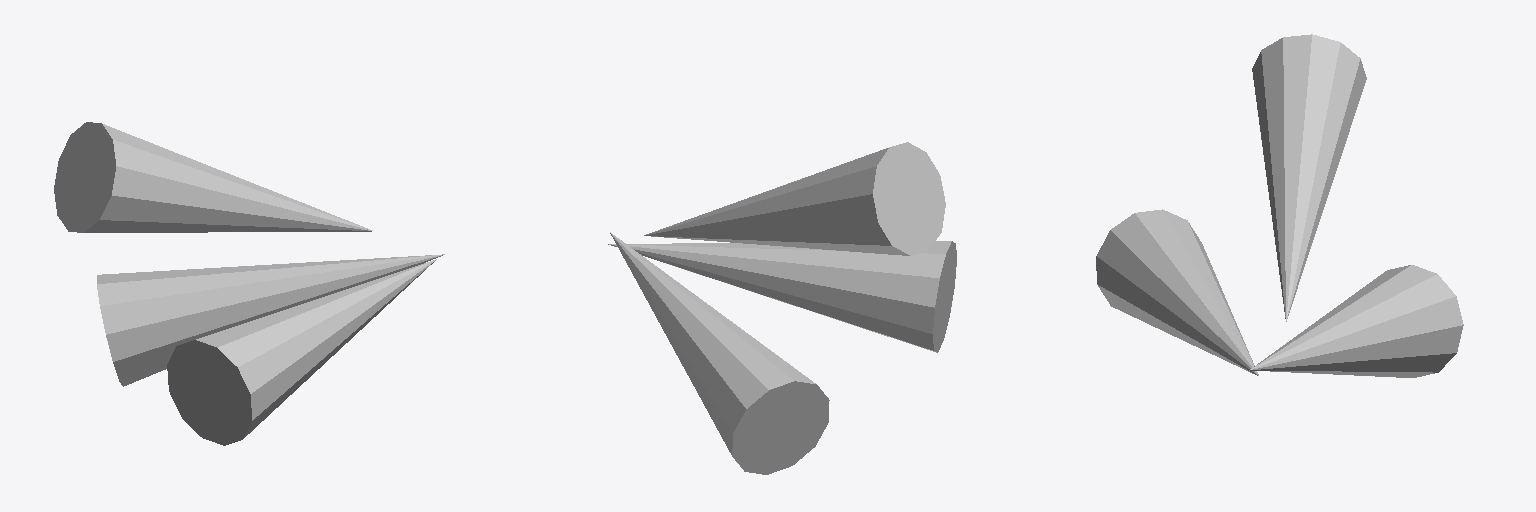
The model's file is Colorfull AK47 - Flash.obj.
3 views of the same model, side by side, from view 1: azimuth 30°, elevation 25°; view 2: azimuth 150°, elevation 25°; view 3: azimuth 270°, elevation 25° (orthographic).
Parts seen in each view (by area): view 1: group[number redacted], group[number redacted], group[number redacted]; view 2: group[number redacted], group[number redacted], group[number redacted]; view 3: group[number redacted], group[number redacted], group[number redacted].
Boxes of the visible parts, <box> form: group[number redacted]: <box>54,122,372,232</box>; group[number redacted]: <box>167,259,436,445</box>; group[number redacted]: <box>97,254,444,386</box>; group[number redacted]: <box>644,142,945,255</box>; group[number redacted]: <box>608,241,956,352</box>; group[number redacted]: <box>610,232,829,474</box>; group[number redacted]: <box>1252,34,1366,321</box>; group[number redacted]: <box>1249,265,1463,377</box>; group[number redacted]: <box>1096,209,1258,375</box>.
Size of the model in its own units: 0.0699 by 0.0591 by 0.0637.